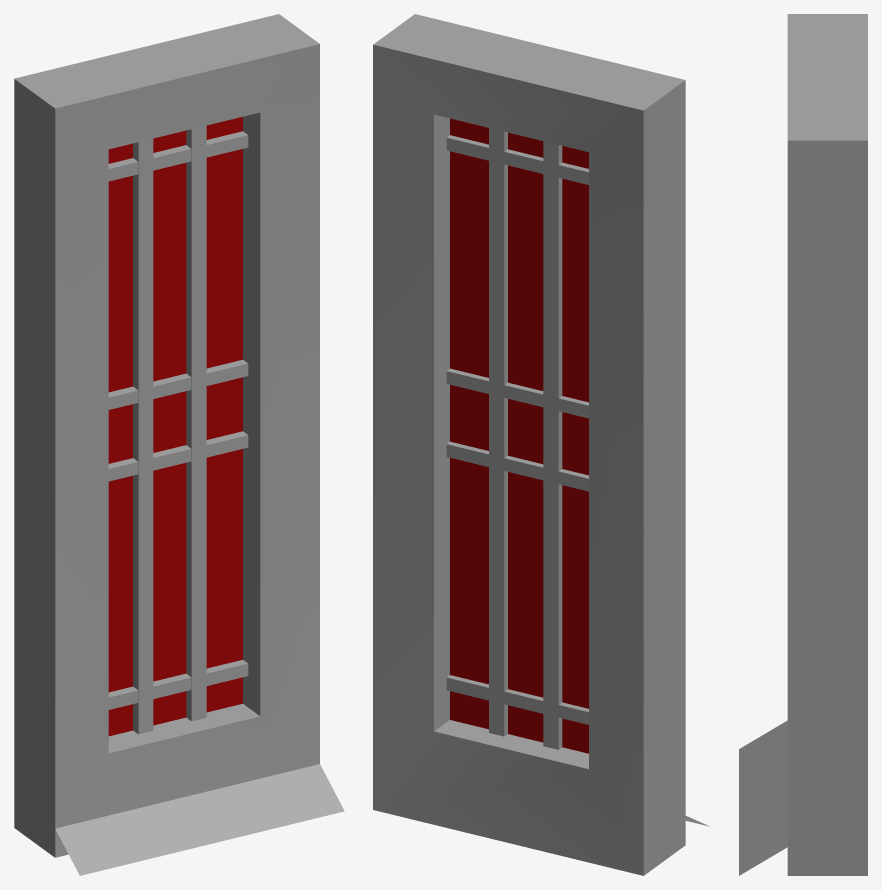
The picture shows the model from 3 angles, left to right: view 1: azimuth 30°, elevation 25°; view 2: azimuth 150°, elevation 25°; view 3: azimuth 270°, elevation 25°; orthographic projection. The views are drawn at different scales.
Visible parts, largest first — view 1: Pb_L; view 2: Pb_L; view 3: Pb_L.
Part boxes in pixels (x1,y1,x2,y2): Pb_L: (14,14,344,875); Pb_L: (373,14,709,875); Pb_L: (739,14,867,875).
Bounding box in the file's own units: 84.28 × 228 × 36.21.
